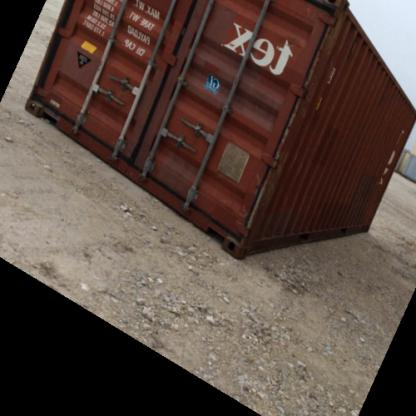Damage: (240, 172, 275, 230), (270, 90, 292, 160), (308, 30, 333, 86)
